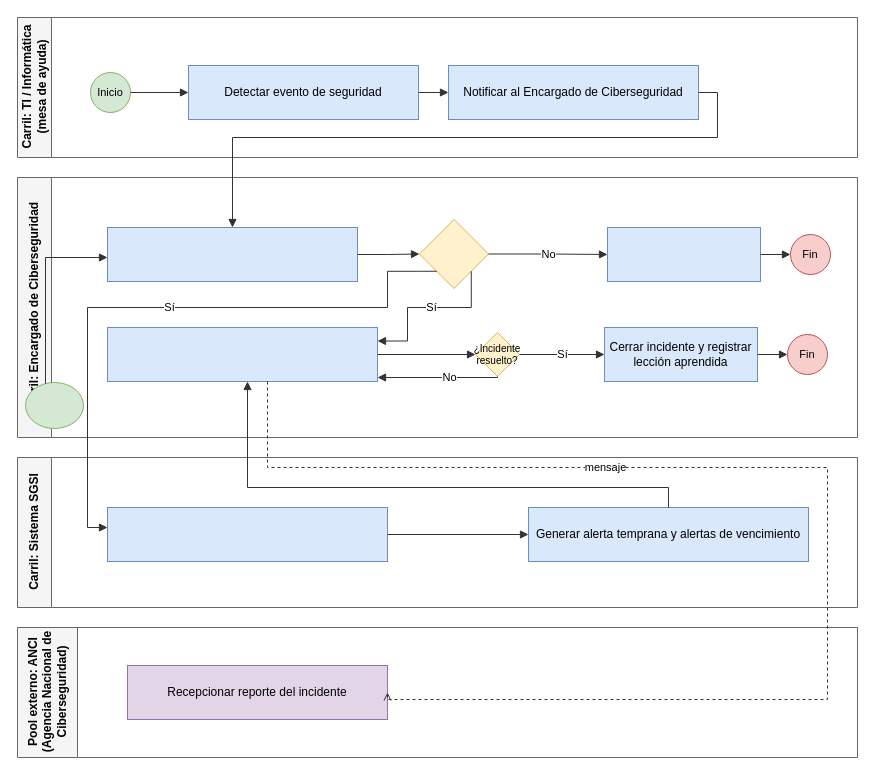
The diagram is 875 pixels wide and 775 high, and some of its shapes have lost their labels. Here are the shapes that lost their labels. From the top down, the centre of each, then its label:
point 232,254: Clasificar según taxonomía ANCI (tipo, alcance, severidad)
point 453,253: ¿Corresponde reportar a ANCI?
point 683,254: Registrar como evento no reportable
point 242,354: Reportar a ANCI y realizar seguimiento / contención
point 54,405: Inicio: ticket derivado
point 247,534: Registrar incidente y computar plazos (alerta 3h / 72h / 15d)
